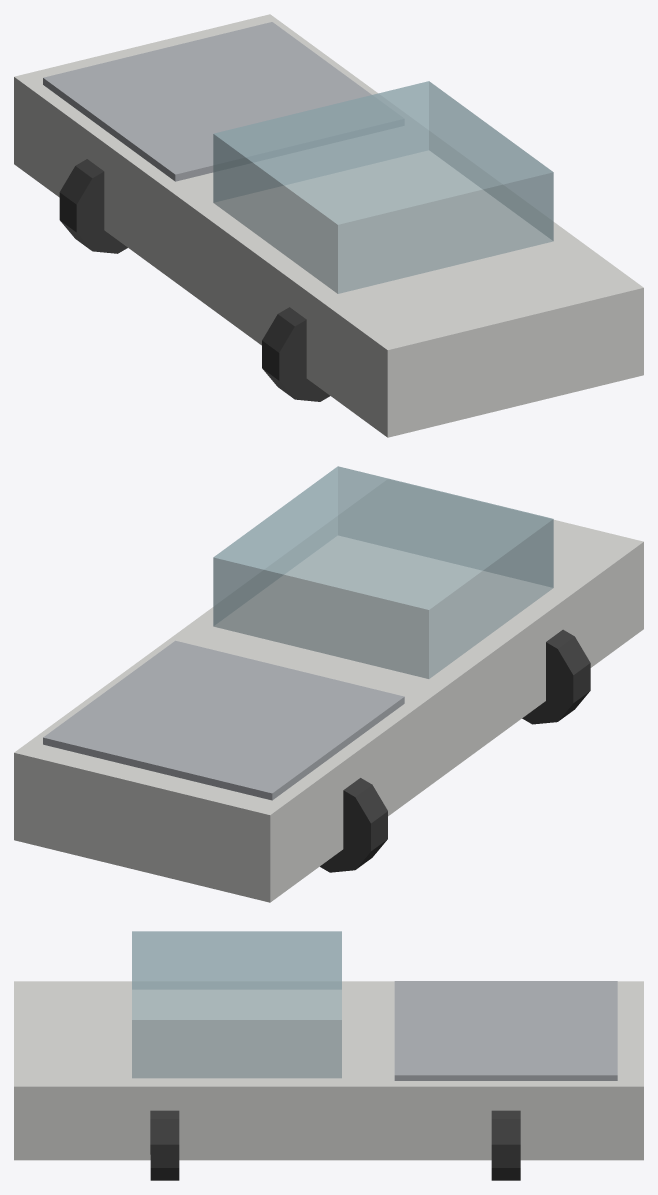
Rendered from car_pickup.glb.
The picture shows the model from 3 angles, top to bottom: view 1: azimuth 30°, elevation 25°; view 2: azimuth 150°, elevation 25°; view 3: azimuth 270°, elevation 25°; orthographic projection. The views are drawn at different scales.
Visible parts, largest first — view 1: Body.002, Cabin.002, Bed, Wheel_0_-1.002, Wheel_1_-1.002; view 2: Body.002, Cabin.002, Bed, Wheel_0_-1.002, Wheel_1_-1.002; view 3: Body.002, Cabin.002, Bed, Wheel_0_1.002, Wheel_1_1.002.
Part boxes in pixels (left/top/right/bottom): Body.002: left=14, top=14, right=643, bottom=437; Cabin.002: left=213, top=81, right=553, bottom=293; Bed: left=43, top=22, right=403, bottom=181; Wheel_0_-1.002: left=59, top=159, right=127, bottom=253; Wheel_1_-1.002: left=262, top=307, right=329, bottom=401; Body.002: left=14, top=480, right=643, bottom=902; Cabin.002: left=213, top=466, right=553, bottom=678; Bed: left=43, top=640, right=404, bottom=800; Wheel_0_-1.002: left=320, top=778, right=387, bottom=872; Wheel_1_-1.002: left=522, top=629, right=590, bottom=724; Body.002: left=14, top=981, right=643, bottom=1160; Cabin.002: left=132, top=931, right=341, bottom=1078; Bed: left=394, top=981, right=617, bottom=1080; Wheel_0_1.002: left=491, top=1110, right=520, bottom=1180; Wheel_1_1.002: left=150, top=1110, right=179, bottom=1180.
Size of the model in its own units: 2.31 by 1.3 by 4.8.
